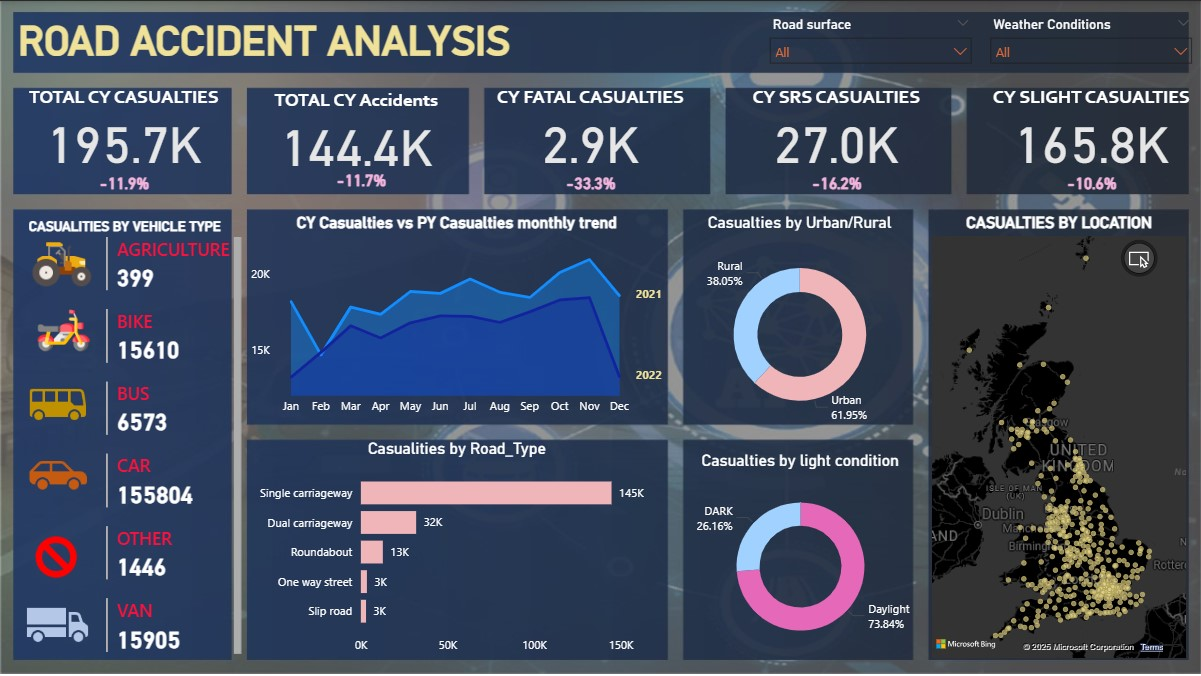

This screenshot's page, from the dashboard's own definition file:
{"tool":"powerbi","page":{"name":"Page 1","canvas":[1280,720],"ordinal":0},"visuals":[{"type":"group","id":"g1","title":"Group 1","box":[14.4,89.5,234.9,156.6],"z":0},{"type":"card","title":"    TOTAL CY CASUALTIES","fields":{"Values":["Data.CY Casualities"]},"box":[14.4,89.5,234.9,89.5],"z":0,"group":"g1"},{"type":"card","title":" CY FATAL CASUALTIES","fields":{"Values":["Data.CY Casualities"]},"box":[511.3,89.5,234.9,89.5],"z":0,"group":"g3"},{"type":"card","title":" CY SRS CASUALTIES","fields":{"Values":["Data.CY Casualities"]},"box":[773.3,89.5,234.9,89.5],"z":0,"group":"g4"},{"type":"card","title":" CY SLIGHT CASUALTIES","fields":{"Values":["Data.CY Casualities"]},"box":[1044.9,89.5,234.9,89.5],"z":0,"group":"g5"},{"type":"card","title":"    TOTAL CY Accidents","fields":{"Values":["Data.CY Accidents count"]},"box":[262,92.7,234.9,89.5],"z":0,"group":"g2"},{"type":"group","id":"g2","title":"Group 1","box":[262,92.7,239.7,153.4],"z":1000},{"type":"card","fields":{"Values":["Data.YoY Accidents"]},"box":[267.4,137,234.9,108.6],"z":1000,"group":"g2"},{"type":"card","fields":{"Values":["Data.YoY Casualties"]},"box":[14.4,143.8,234.9,102.3],"z":1000,"group":"g1"},{"type":"card","fields":{"Values":["Data.YoY Casualties"]},"box":[511.3,143.8,234.9,102.3],"z":1000,"group":"g3"},{"type":"card","fields":{"Values":["Data.YoY Casualties"]},"box":[773.3,143.8,234.9,102.3],"z":1000,"group":"g4"},{"type":"card","fields":{"Values":["Data.YoY Casualties"]},"box":[1044.9,143.8,234.9,102.3],"z":1000,"group":"g5"},{"type":"group","id":"g3","title":"Group 1","box":[511.3,89.5,234.9,156.6],"z":2000},{"type":"group","id":"g4","title":"Group 1","box":[773.3,89.5,234.9,156.6],"z":3000},{"type":"group","id":"g5","title":"Group 1","box":[1044.9,89.5,234.9,156.6],"z":4000},{"type":"textbox","box":[14.4,11.2,1254.2,65.5],"z":5000},{"type":"multiRowCard","fields":{"Values":["Data.Vehicle_Type (groups)","Data.CY Casualities"]},"box":[107,246,155,466.5],"z":6000},{"type":"image","box":[1.6,623,119.7,82],"z":7000},{"type":"image","box":[1.6,391.8,119.7,75.4],"z":8000},{"type":"image","box":[16.4,467.2,91.8,77],"z":9000},{"type":"image","box":[4.9,318,126.2,65.6],"z":10000},{"type":"image","box":[4.9,559,109.8,65.6],"z":11000},{"type":"image","box":[11.5,241,109.8,77],"z":12000},{"type":"textbox","box":[25.6,225.3,309.9,32],"z":13000},{"type":"areaChart","title":"CY Casualties vs PY Casualties monthly trend","fields":{"Category":["calender.month"],"Y":["Sum(Data.Number_of_Casualties)"],"Series":["calender.Date.Variation.Date Hierarchy.Year"]},"box":[262,225.3,448.9,223.7],"z":14000},{"type":"donutChart","title":"Casualties by Urban/Rural","fields":{"Category":["Data.Urban_or_Rural_Area"],"Y":["Data.CY Casualities"]},"box":[730.1,225.3,242.8,239.7],"z":15000},{"type":"donutChart","title":"Casualties by light condition","fields":{"Y":["Data.CY Casualities"],"Category":["Data.Light_Conditions (groups)"]},"box":[729.5,478.7,244.3,226.2],"z":16000},{"type":"barChart","title":"Casualities by Road_Type","fields":{"Category":["Data.Road_Type"],"Y":["Data.CY Casualities"]},"box":[262.3,467.2,449.2,237.7],"z":17000},{"type":"map","title":"CASUALTIES BY LOCATION","fields":{"Y":["Data.Latitude"],"X":["Data.Longitude"],"Category":["Data.Local_Authority_(District)"]},"box":[987.4,225.3,281.2,479.3],"z":18000},{"type":"slicer","fields":{"Values":["Data.Weather_Conditions (groups)"]},"box":[1044.9,11.2,234.9,67.1],"z":19000},{"type":"slicer","fields":{"Values":["Data.Road_Surface_Conditions (groups)"]},"box":[810,11.2,234.9,67.1],"z":20000}]}

Visuals, with their boxes in screenshot pixels (x1, y1, x2, y2), scaled from the page's 1280x720 canvas onto the 1201x676 screenshot:
"Group 1" group: box(14, 84, 234, 231)
"    TOTAL CY CASUALTIES" card: box(14, 84, 234, 168)
" CY FATAL CASUALTIES" card: box(480, 84, 700, 168)
" CY SRS CASUALTIES" card: box(726, 84, 946, 168)
" CY SLIGHT CASUALTIES" card: box(980, 84, 1200, 168)
"    TOTAL CY Accidents" card: box(246, 87, 466, 171)
"Group 1" group: box(246, 87, 471, 231)
card - Data.YoY Accidents: box(251, 129, 471, 231)
card - Data.YoY Casualties: box(14, 135, 234, 231)
card - Data.YoY Casualties: box(480, 135, 700, 231)
card - Data.YoY Casualties: box(726, 135, 946, 231)
card - Data.YoY Casualties: box(980, 135, 1200, 231)
"Group 1" group: box(480, 84, 700, 231)
"Group 1" group: box(726, 84, 946, 231)
"Group 1" group: box(980, 84, 1200, 231)
textbox: box(14, 11, 1190, 72)
multiRowCard - Data.Vehicle_Type (groups) x Data.CY Casualities: box(100, 231, 246, 669)
image: box(2, 585, 114, 662)
image: box(2, 368, 114, 439)
image: box(15, 439, 102, 511)
image: box(5, 299, 123, 360)
image: box(5, 525, 108, 586)
image: box(11, 226, 114, 299)
textbox: box(24, 212, 315, 242)
"CY Casualties vs PY Casualties monthly trend" areaChart: box(246, 212, 667, 422)
"Casualties by Urban/Rural" donutChart: box(685, 212, 913, 437)
"Casualties by light condition" donutChart: box(684, 449, 914, 662)
"Casualities by Road_Type" barChart: box(246, 439, 668, 662)
"CASUALTIES BY LOCATION" map: box(926, 212, 1190, 662)
slicer - Data.Weather_Conditions (groups): box(980, 11, 1200, 74)
slicer - Data.Road_Surface_Conditions (groups): box(760, 11, 980, 74)
